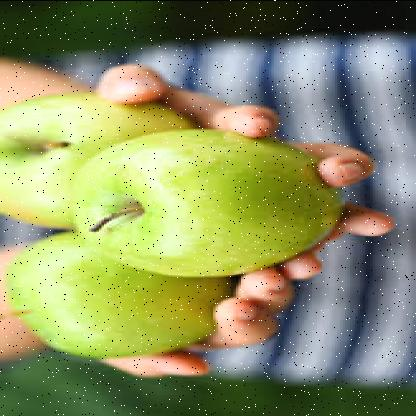apple: (76, 134, 348, 273), (13, 227, 244, 354), (3, 84, 188, 226)
